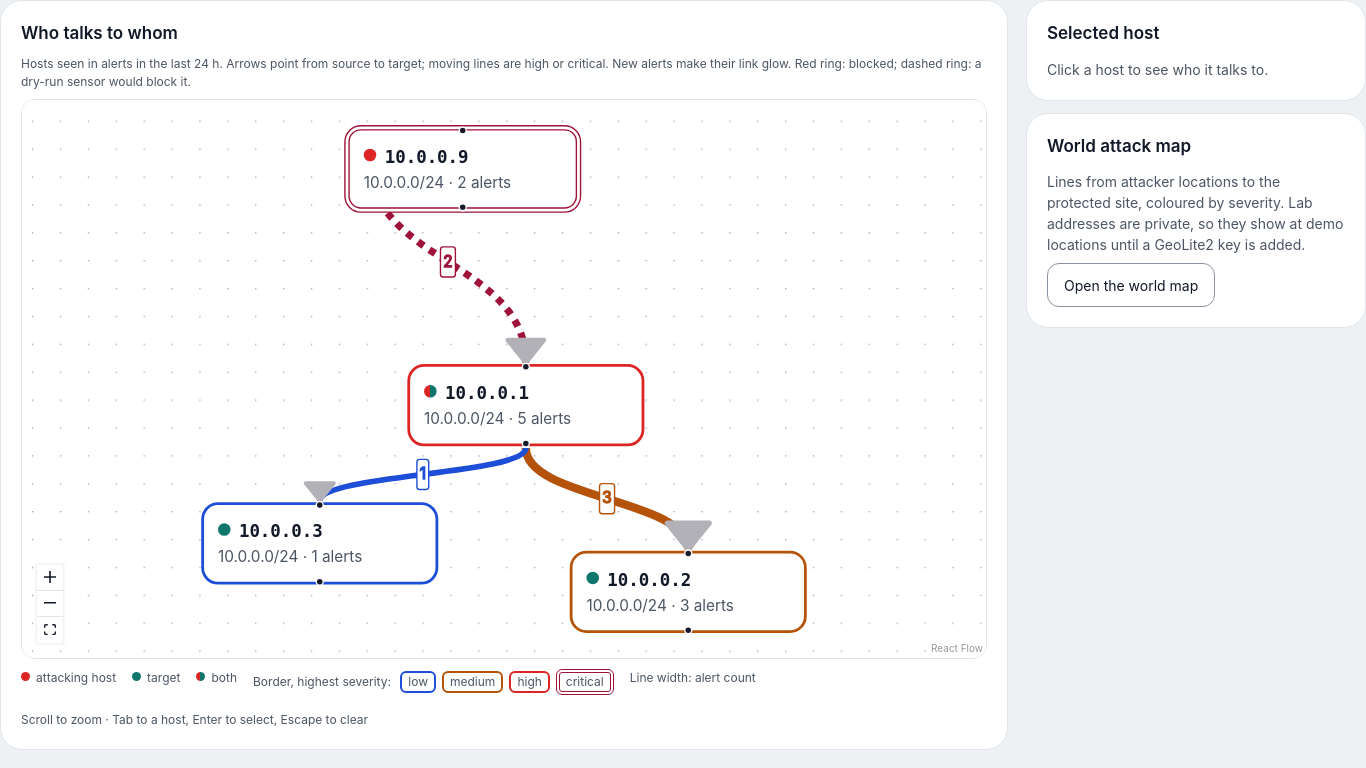
it: TopologyMap › shows a host's details: role, counts, severity, flows, alerts link
Step 1. Click the element named "10.0.0.1," → [526, 405], box [407,364,644,446]
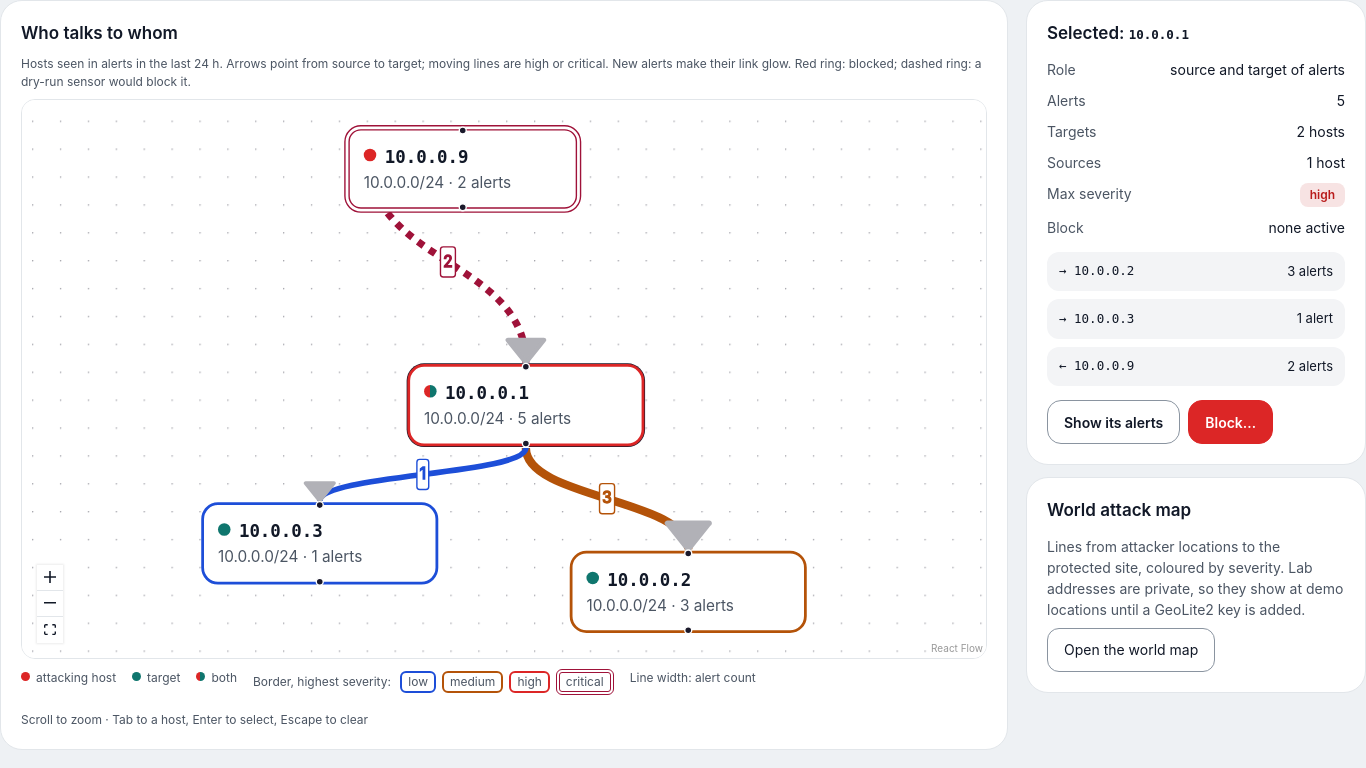
Result: the element named "Selected host 10.0.0.1" shows "Selected: 10.0.0.1" at [1026,0,1365,465]
Result: the text "source and target of alerts" is shown at [1148,58,1345,80]
Result: the text "2 hosts" is shown at [1297,122,1345,140]
